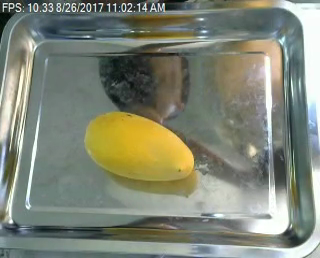Mango: (81, 106, 196, 186)
